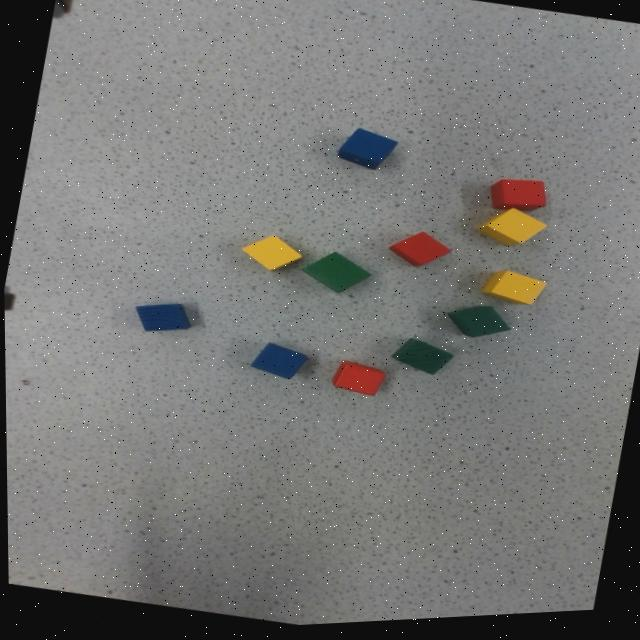yellow_cube: (476, 204, 546, 262), (243, 227, 301, 283), (481, 270, 545, 316)
